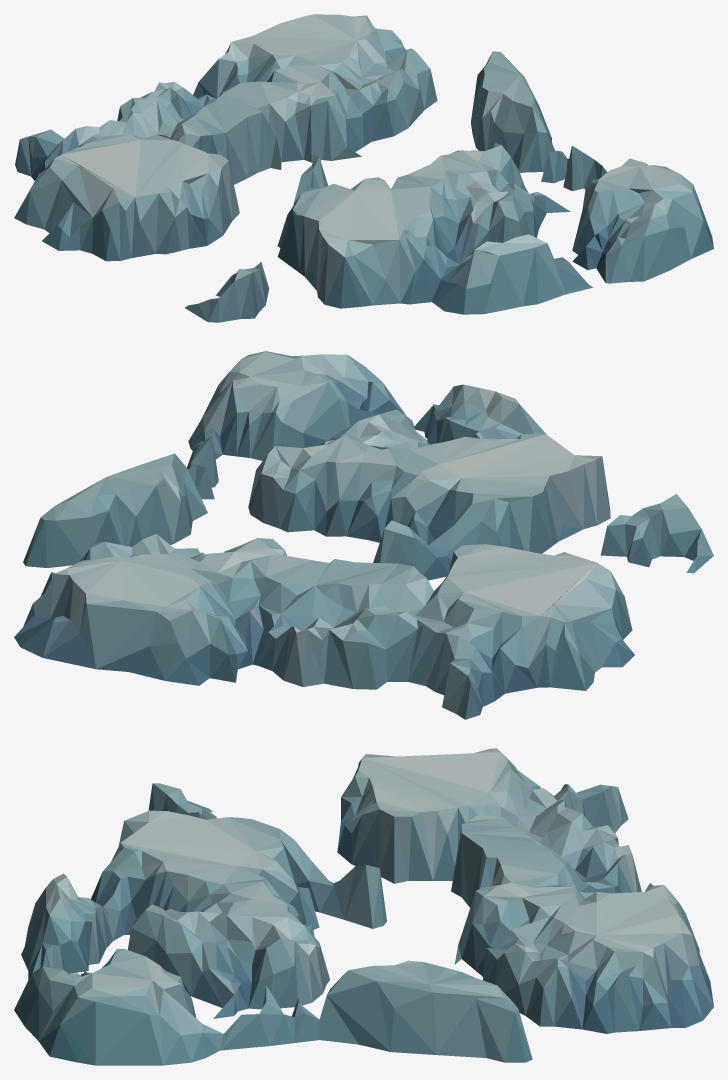
File: Iceberg_C.fbx
3 views of the same model, one above another, from view 1: azimuth 30°, elevation 25°; view 2: azimuth 150°, elevation 25°; view 3: azimuth 270°, elevation 25° (orthographic). The views are drawn at different scales.
Parts seen in each view (by area): view 1: Iceberg_C; view 2: Iceberg_C; view 3: Iceberg_C.
Boxes of the visible parts, <box> form: Iceberg_C: <box>14,14,713,322</box>; Iceberg_C: <box>14,351,713,719</box>; Iceberg_C: <box>14,748,713,1065</box>.
Size of the model in its own units: 9250 by 968 by 9850.
